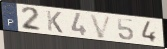2: (20, 6, 43, 32)
4: (70, 11, 88, 37), (141, 21, 159, 44)
5: (116, 17, 135, 41)
K: (45, 10, 64, 35)
V: (89, 13, 114, 40)
